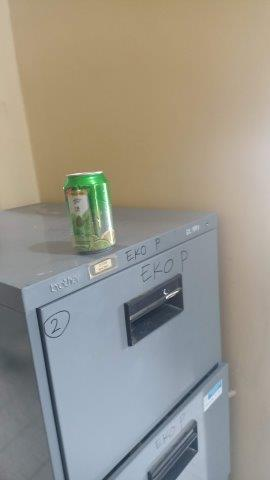kaleng: (63, 171, 116, 254)
